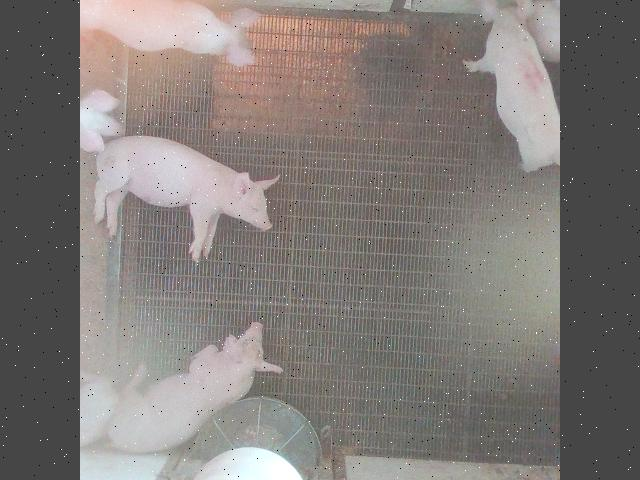pig-1: (95, 135, 278, 261)
pig-4: (464, 0, 560, 171)
